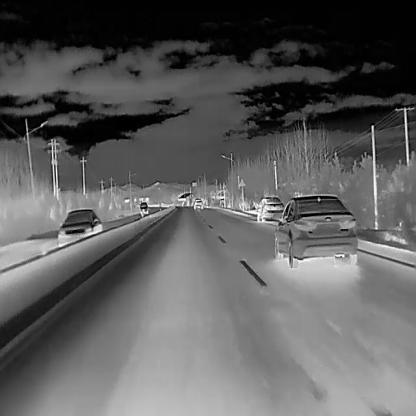car: (274, 194, 357, 268), (57, 207, 104, 248), (256, 196, 284, 222), (192, 198, 203, 210), (139, 201, 148, 215)
